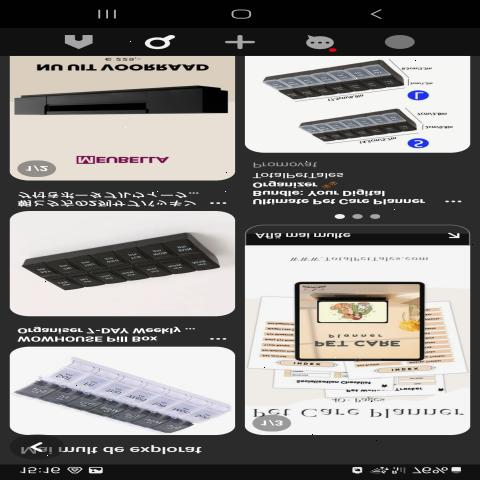PillBox: (13, 358, 234, 434), (20, 230, 223, 296), (260, 61, 428, 109), (300, 109, 429, 147)
